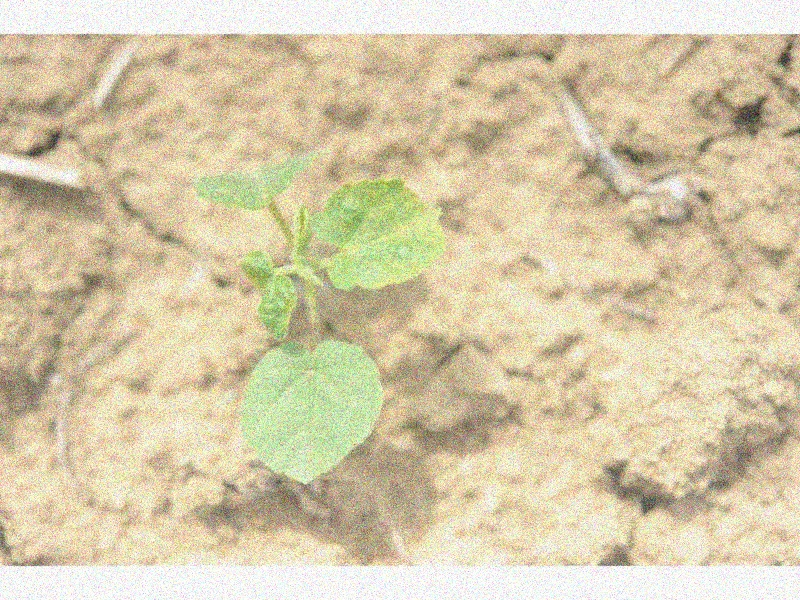velvet: (188, 151, 444, 485)
